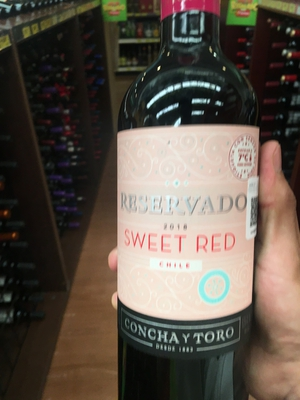reservado sweet red: (116, 12, 257, 389)
